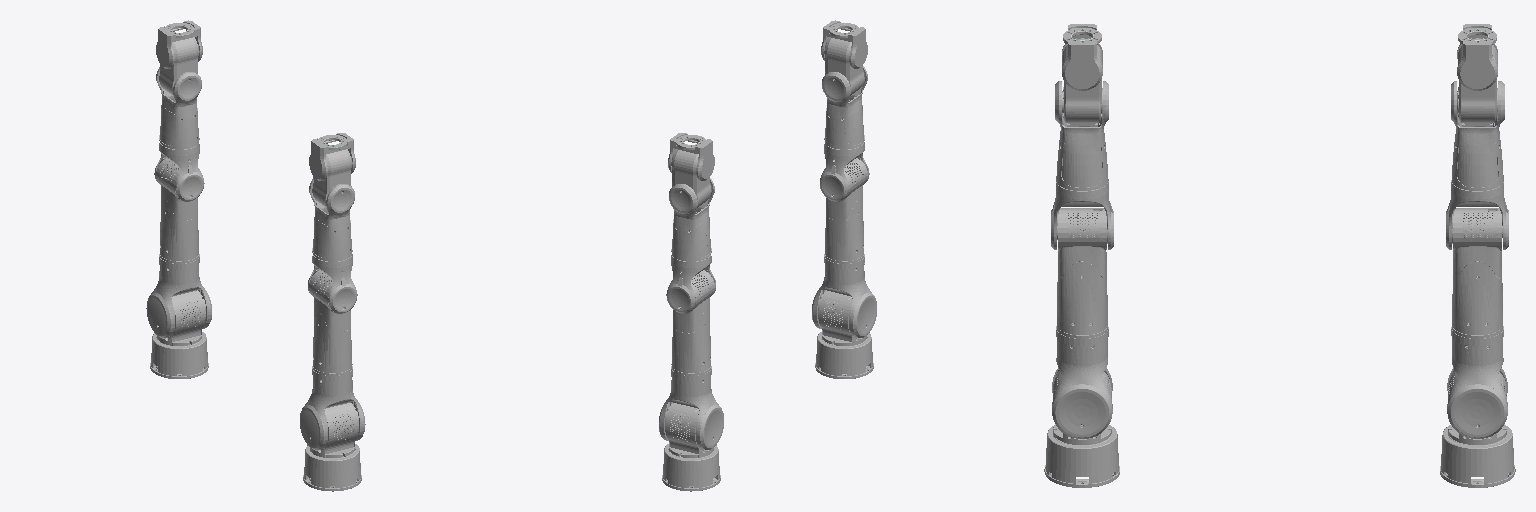
robot.urdf — bimanual_A7_V2:
<?xml version='1.0' encoding='utf-8'?>
<robot name="bimanual_A7_V2">
  <link name="world" />
  <joint name="world_to_right_base" type="fixed">
    <parent link="world" />
    <child link="right_base_link" />
    <origin xyz="0 -0.3 0" rpy="0 0 0" />
  </joint>
  <link name="right_base_link">
    <inertial>
      <origin xyz="2.9476E-06 0.00059109 0.035945" rpy="0 0 0" />
      <mass value="1.3934" />
      <inertia ixx="0.0010366" ixy="-4.6571E-06" ixz="-1.0004E-09" iyy="0.00092144" iyz="-1.646E-06" izz="0.0015392" />
    </inertial>
    <visual>
      <origin xyz="0 0 0" rpy="0 0 0" />
      <geometry>
        <mesh filename="meshes/base_link.STL" />
      </geometry>
      <material name="">
        <color rgba="0.75294 0.75294 0.75294 1" />
      </material>
    </visual>
    <collision>
      <origin xyz="0 0 0" rpy="0 0 0" />
      <geometry>
        <mesh filename="meshes/base_link.STL" />
      </geometry>
    </collision>
  </link>
  <link name="right_link1">
    <inertial>
      <origin xyz="0.0026942 -0.00010595 0.053498" rpy="0 0 0" />
      <mass value="1.3809" />
      <inertia ixx="0.0011393" ixy="9.944E-09" ixz="-2.2259E-06" iyy="0.00068756" iyz="-1.0591E-06" izz="0.00065344" />
    </inertial>
    <visual>
      <origin xyz="0 0 0" rpy="0 0 0" />
      <geometry>
        <mesh filename="meshes/A1_Link.STL" />
      </geometry>
      <material name="">
        <color rgba="0.75294 0.75294 0.75294 1" />
      </material>
    </visual>
    <collision>
      <origin xyz="0 0 0" rpy="0 0 0" />
      <geometry>
        <mesh filename="meshes/A1_Link.STL" />
      </geometry>
    </collision>
  </link>
  <joint name="right_joint1" type="revolute">
    <origin xyz="0 0 0.0645" rpy="0 0 0" />
    <parent link="right_base_link" />
    <child link="right_link1" />
    <axis xyz="0 0 1" />
    <limit lower="-2.91" upper="2.91" effort="80" velocity="10.47" />
  </joint>
  <link name="right_link2">
    <inertial>
      <origin xyz="0.0016184 -8.1895E-06 0.079574" rpy="0 0 0" />
      <mass value="1.1421" />
      <inertia ixx="0.00099926" ixy="-4.3839E-06" ixz="1.3411E-06" iyy="0.0009296" iyz="2.7915E-07" izz="0.00049087" />
    </inertial>
    <visual>
      <origin xyz="0 0 0" rpy="0 0 0" />
      <geometry>
        <mesh filename="meshes/A2_Link.STL" />
      </geometry>
      <material name="">
        <color rgba="0.75294 0.75294 0.75294 1" />
      </material>
    </visual>
    <collision>
      <origin xyz="0 0 0" rpy="0 0 0" />
      <geometry>
        <mesh filename="meshes/A2_Link.STL" />
      </geometry>
    </collision>
  </link>
  <joint name="right_joint2" type="revolute">
    <origin xyz="0 0 0.058" rpy="0 0 0" />
    <parent link="right_link1" />
    <child link="right_link2" />
    <axis xyz="1 0 0" />
    <limit lower="-1.64" upper="1.64" effort="80" velocity="10.47" />
  </joint>
  <link name="right_link3">
    <inertial>
      <origin xyz="0.00018108 -0.0012493 0.12855" rpy="0 0 0" />
      <mass value="1.2798" />
      <inertia ixx="0.001581" ixy="-7.7193E-07" ixz="8.6942E-07" iyy="0.0016315" iyz="-2.4154E-06" izz="0.00034415" />
    </inertial>
    <visual>
      <origin xyz="0 0 0" rpy="0 0 0" />
      <geometry>
        <mesh filename="meshes/A3_Link.STL" />
      </geometry>
      <material name="">
        <color rgba="0.75294 0.75294 0.75294 1" />
      </material>
    </visual>
    <collision>
      <origin xyz="0 0 0" rpy="0 0 0" />
      <geometry>
        <mesh filename="meshes/A3_Link.STL" />
      </geometry>
    </collision>
  </link>
  <joint name="right_joint3" type="revolute">
    <origin xyz="-2.5027E-05 0 0.123" rpy="0 0 0" />
    <parent link="right_link2" />
    <child link="right_link3" />
    <axis xyz="0 0 1" />
    <limit lower="-2.69" upper="2.69" effort="36" velocity="9.1" />
  </joint>
  <link name="right_link4">
    <inertial>
      <origin xyz="-4.5339E-06 -0.00098093 0.084098" rpy="0 0 0" />
      <mass value="0.94109" />
      <inertia ixx="0.00050831" ixy="4.1242E-06" ixz="1.6031E-07" iyy="0.00052415" iyz="-3.4576E-07" izz="0.00033405" />
    </inertial>
    <visual>
      <origin xyz="0 0 0" rpy="0 0 0" />
      <geometry>
        <mesh filename="meshes/A4_Link.STL" />
      </geometry>
      <material name="">
        <color rgba="0.75294 0.75294 0.75294 1" />
      </material>
    </visual>
    <collision>
      <origin xyz="0 0 0" rpy="0 0 0" />
      <geometry>
        <mesh filename="meshes/A4_Link.STL" />
      </geometry>
    </collision>
  </link>
  <joint name="right_joint4" type="revolute">
    <origin xyz="2.5124E-05 0 0.1621" rpy="0 0 0" />
    <parent link="right_link3" />
    <child link="right_link4" />
    <axis xyz="0 1 0" />
    <limit lower="-2.05" upper="2.05" effort="36" velocity="9.1" />
  </joint>
  <link name="right_link5">
    <inertial>
      <origin xyz="-7.5417E-05 -0.0018019 0.037052" rpy="0 0 0" />
      <mass value="0.30345" />
      <inertia ixx="0.00035395" ixy="-8.4489E-07" ixz="1.0439E-06" iyy="0.00038269" iyz="1.7802E-06" izz="0.00010171" />
    </inertial>
    <visual>
      <origin xyz="0 0 0" rpy="0 0 0" />
      <geometry>
        <mesh filename="meshes/A5_Link.STL" />
      </geometry>
      <material name="">
        <color rgba="0.75294 0.75294 0.75294 1" />
      </material>
    </visual>
    <collision>
      <origin xyz="0 0 0" rpy="0 0 0" />
      <geometry>
        <mesh filename="meshes/A5_Link.STL" />
      </geometry>
    </collision>
  </link>
  <joint name="right_joint5" type="revolute">
    <origin xyz="0 0 0.124" rpy="0 0 0" />
    <parent link="right_link4" />
    <child link="right_link5" />
    <axis xyz="0 0 1" />
    <limit lower="-2.69" upper="2.69" effort="36" velocity="9.1" />
  </joint>
  <link name="right_link6">
    <inertial>
      <origin xyz="0.0042338 0.0043863 0.032482" rpy="0 0 0" />
      <mass value="0.34433" />
      <inertia ixx="0.0001944" ixy="-1.3389E-06" ixz="-9.4704E-06" iyy="0.00023388" iyz="2.8728E-07" izz="0.00010146" />
    </inertial>
    <visual>
      <origin xyz="0 0 0" rpy="0 0 0" />
      <geometry>
        <mesh filename="meshes/A6_Link.STL" />
      </geometry>
      <material name="">
        <color rgba="0.75294 0.75294 0.75294 1" />
      </material>
    </visual>
    <collision>
      <origin xyz="0 0 0" rpy="0 0 0" />
      <geometry>
        <mesh filename="meshes/A6_Link.STL" />
      </geometry>
    </collision>
  </link>
  <joint name="right_joint6" type="revolute">
    <origin xyz="0 0 0.0881" rpy="0 0 0" />
    <parent link="right_link5" />
    <child link="right_link6" />
    <axis xyz="0 1 0" />
    <limit lower="-1.59" upper="1.59" effort="18" velocity="7.33" />
  </joint>
  <link name="right_link7">
    <inertial>
      <origin xyz="-0.0033322 -1.0729E-06 0.020243" rpy="0 0 0" />
      <mass value="0.14331" />
      <inertia ixx="6.9817E-05" ixy="-2.7113E-07" ixz="3.1827E-08" iyy="5.4868E-05" iyz="-6.307E-13" izz="4.4021E-05" />
    </inertial>
    <visual>
      <origin xyz="0 0 0" rpy="0 0 0" />
      <geometry>
        <mesh filename="meshes/A7_Link.STL" />
      </geometry>
      <material name="">
        <color rgba="0.75294 0.75294 0.75294 1" />
      </material>
    </visual>
    <collision>
      <origin xyz="0 0 0" rpy="0 0 0" />
      <geometry>
        <mesh filename="meshes/A7_Link.STL" />
      </geometry>
    </collision>
  </link>
  <joint name="right_joint7" type="revolute">
    <origin xyz="0 0 0.0655" rpy="0 0 0" />
    <parent link="right_link6" />
    <child link="right_link7" />
    <axis xyz="1 0 0" />
    <limit lower="-1.59" upper="1.59" effort="18" velocity="7.33" />
  </joint>
  <link name="right_link8">
    <inertial>
      <origin xyz="1.0381E-10 5.2909E-11 -0.0005" rpy="0 0 0" />
      <mass value="6.0515E-05" />
      <inertia ixx="8.496E-09" ixy="1.8809E-22" ixz="-1.7618E-15" iyy="8.496E-09" iyz="-9.0596E-16" izz="1.6982E-08" />
    </inertial>
    <visual>
      <origin xyz="0 0 0" rpy="0 0 0" />
      <geometry>
        <mesh filename="meshes/A8_Link.STL" />
      </geometry>
      <material name="">
        <color rgba="0.78039 0.97255 0.95686 1" />
      </material>
    </visual>
    <collision>
      <origin xyz="0 0 0" rpy="0 0 0" />
      <geometry>
        <mesh filename="meshes/A8_Link.STL" />
      </geometry>
    </collision>
  </link>
  <joint name="right_joint8" type="fixed">
    <origin xyz="0 0 0.0455" rpy="0 0 0" />
    <parent link="right_link7" />
    <child link="right_link8" />
    <axis xyz="0 0 0" />
  </joint>
  <joint name="world_to_left_base" type="fixed">
    <parent link="world" />
    <child link="left_base_link" />
    <origin xyz="0 0.3 0" rpy="0 0 0" />
  </joint>
  <link name="left_base_link">
    <inertial>
      <origin xyz="2.9476E-06 0.00059109 0.035945" rpy="0 0 0" />
      <mass value="1.3934" />
      <inertia ixx="0.0010366" ixy="-4.6571E-06" ixz="-1.0004E-09" iyy="0.00092144" iyz="-1.646E-06" izz="0.0015392" />
    </inertial>
    <visual>
      <origin xyz="0 0 0" rpy="0 0 0" />
      <geometry>
        <mesh filename="meshes/base_link.STL" />
      </geometry>
      <material name="">
        <color rgba="0.75294 0.75294 0.75294 1" />
      </material>
    </visual>
    <collision>
      <origin xyz="0 0 0" rpy="0 0 0" />
      <geometry>
        <mesh filename="meshes/base_link.STL" />
      </geometry>
    </collision>
  </link>
  <link name="left_link1">
    <inertial>
      <origin xyz="0.0026942 -0.00010595 0.053498" rpy="0 0 0" />
      <mass value="1.3809" />
      <inertia ixx="0.0011393" ixy="9.944E-09" ixz="-2.2259E-06" iyy="0.00068756" iyz="-1.0591E-06" izz="0.00065344" />
    </inertial>
    <visual>
      <origin xyz="0 0 0" rpy="0 0 0" />
      <geometry>
        <mesh filename="meshes/A1_Link.STL" />
      </geometry>
      <material name="">
        <color rgba="0.75294 0.75294 0.75294 1" />
      </material>
    </visual>
    <collision>
      <origin xyz="0 0 0" rpy="0 0 0" />
      <geometry>
        <mesh filename="meshes/A1_Link.STL" />
      </geometry>
    </collision>
  </link>
  <joint name="left_joint1" type="revolute">
    <origin xyz="0 0 0.0645" rpy="0 0 0" />
    <parent link="left_base_link" />
    <child link="left_link1" />
    <axis xyz="0 0 1" />
    <limit lower="-2.91" upper="2.91" effort="80" velocity="10.47" />
  </joint>
  <link name="left_link2">
    <inertial>
      <origin xyz="0.0016184 -8.1895E-06 0.079574" rpy="0 0 0" />
      <mass value="1.1421" />
      <inertia ixx="0.00099926" ixy="-4.3839E-06" ixz="1.3411E-06" iyy="0.0009296" iyz="2.7915E-07" izz="0.00049087" />
    </inertial>
    <visual>
      <origin xyz="0 0 0" rpy="0 0 0" />
      <geometry>
        <mesh filename="meshes/A2_Link.STL" />
      </geometry>
      <material name="">
        <color rgba="0.75294 0.75294 0.75294 1" />
      </material>
    </visual>
    <collision>
      <origin xyz="0 0 0" rpy="0 0 0" />
      <geometry>
        <mesh filename="meshes/A2_Link.STL" />
      </geometry>
    </collision>
  </link>
  <joint name="left_joint2" type="revolute">
    <origin xyz="0 0 0.058" rpy="0 0 0" />
    <parent link="left_link1" />
    <child link="left_link2" />
    <axis xyz="1 0 0" />
    <limit lower="-1.64" upper="1.64" effort="80" velocity="10.47" />
  </joint>
  <link name="left_link3">
    <inertial>
      <origin xyz="0.00018108 -0.0012493 0.12855" rpy="0 0 0" />
      <mass value="1.2798" />
      <inertia ixx="0.001581" ixy="-7.7193E-07" ixz="8.6942E-07" iyy="0.0016315" iyz="-2.4154E-06" izz="0.00034415" />
    </inertial>
    <visual>
      <origin xyz="0 0 0" rpy="0 0 0" />
      <geometry>
        <mesh filename="meshes/A3_Link.STL" />
      </geometry>
      <material name="">
        <color rgba="0.75294 0.75294 0.75294 1" />
      </material>
    </visual>
    <collision>
      <origin xyz="0 0 0" rpy="0 0 0" />
      <geometry>
        <mesh filename="meshes/A3_Link.STL" />
      </geometry>
    </collision>
  </link>
  <joint name="left_joint3" type="revolute">
    <origin xyz="-2.5027E-05 0 0.123" rpy="0 0 0" />
    <parent link="left_link2" />
    <child link="left_link3" />
    <axis xyz="0 0 1" />
    <limit lower="-2.69" upper="2.69" effort="36" velocity="9.1" />
  </joint>
  <link name="left_link4">
    <inertial>
      <origin xyz="-4.5339E-06 -0.00098093 0.084098" rpy="0 0 0" />
      <mass value="0.94109" />
      <inertia ixx="0.00050831" ixy="4.1242E-06" ixz="1.6031E-07" iyy="0.00052415" iyz="-3.4576E-07" izz="0.00033405" />
    </inertial>
    <visual>
      <origin xyz="0 0 0" rpy="0 0 0" />
      <geometry>
        <mesh filename="meshes/A4_Link.STL" />
      </geometry>
      <material name="">
        <color rgba="0.75294 0.75294 0.75294 1" />
      </material>
    </visual>
    <collision>
      <origin xyz="0 0 0" rpy="0 0 0" />
      <geometry>
        <mesh filename="meshes/A4_Link.STL" />
      </geometry>
    </collision>
  </link>
  <joint name="left_joint4" type="revolute">
    <origin xyz="2.5124E-05 0 0.1621" rpy="0 0 0" />
    <parent link="left_link3" />
    <child link="left_link4" />
    <axis xyz="0 1 0" />
    <limit lower="-2.05" upper="2.05" effort="36" velocity="9.1" />
  </joint>
  <link name="left_link5">
    <inertial>
      <origin xyz="-7.5417E-05 -0.0018019 0.037052" rpy="0 0 0" />
      <mass value="0.30345" />
      <inertia ixx="0.00035395" ixy="-8.4489E-07" ixz="1.0439E-06" iyy="0.00038269" iyz="1.7802E-06" izz="0.00010171" />
    </inertial>
    <visual>
      <origin xyz="0 0 0" rpy="0 0 0" />
      <geometry>
        <mesh filename="meshes/A5_Link.STL" />
      </geometry>
      <material name="">
        <color rgba="0.75294 0.75294 0.75294 1" />
      </material>
    </visual>
    <collision>
      <origin xyz="0 0 0" rpy="0 0 0" />
      <geometry>
        <mesh filename="meshes/A5_Link.STL" />
      </geometry>
    </collision>
  </link>
  <joint name="left_joint5" type="revolute">
    <origin xyz="0 0 0.124" rpy="0 0 0" />
    <parent link="left_link4" />
    <child link="left_link5" />
    <axis xyz="0 0 1" />
    <limit lower="-2.69" upper="2.69" effort="36" velocity="9.1" />
  </joint>
  <link name="left_link6">
    <inertial>
      <origin xyz="0.0042338 0.0043863 0.032482" rpy="0 0 0" />
      <mass value="0.34433" />
      <inertia ixx="0.0001944" ixy="-1.3389E-06" ixz="-9.4704E-06" iyy="0.00023388" iyz="2.8728E-07" izz="0.00010146" />
    </inertial>
    <visual>
      <origin xyz="0 0 0" rpy="0 0 0" />
      <geometry>
        <mesh filename="meshes/A6_Link.STL" />
      </geometry>
      <material name="">
        <color rgba="0.75294 0.75294 0.75294 1" />
      </material>
    </visual>
    <collision>
      <origin xyz="0 0 0" rpy="0 0 0" />
      <geometry>
        <mesh filename="meshes/A6_Link.STL" />
      </geometry>
    </collision>
  </link>
  <joint name="left_joint6" type="revolute">
    <origin xyz="0 0 0.0881" rpy="0 0 0" />
    <parent link="left_link5" />
    <child link="left_link6" />
    <axis xyz="0 1 0" />
    <limit lower="-1.59" upper="1.59" effort="18" velocity="7.33" />
  </joint>
  <link name="left_link7">
    <inertial>
      <origin xyz="-0.0033322 -1.0729E-06 0.020243" rpy="0 0 0" />
      <mass value="0.14331" />
      <inertia ixx="6.9817E-05" ixy="-2.7113E-07" ixz="3.1827E-08" iyy="5.4868E-05" iyz="-6.307E-13" izz="4.4021E-05" />
    </inertial>
    <visual>
      <origin xyz="0 0 0" rpy="0 0 0" />
      <geometry>
        <mesh filename="meshes/A7_Link.STL" />
      </geometry>
      <material name="">
        <color rgba="0.75294 0.75294 0.75294 1" />
      </material>
    </visual>
    <collision>
      <origin xyz="0 0 0" rpy="0 0 0" />
      <geometry>
        <mesh filename="meshes/A7_Link.STL" />
      </geometry>
    </collision>
  </link>
  <joint name="left_joint7" type="revolute">
    <origin xyz="0 0 0.0655" rpy="0 0 0" />
    <parent link="left_link6" />
    <child link="left_link7" />
    <axis xyz="1 0 0" />
    <limit lower="-1.59" upper="1.59" effort="18" velocity="7.33" />
  </joint>
  <link name="left_link8">
    <inertial>
      <origin xyz="1.0381E-10 5.2909E-11 -0.0005" rpy="0 0 0" />
      <mass value="6.0515E-05" />
      <inertia ixx="8.496E-09" ixy="1.8809E-22" ixz="-1.7618E-15" iyy="8.496E-09" iyz="-9.0596E-16" izz="1.6982E-08" />
    </inertial>
    <visual>
      <origin xyz="0 0 0" rpy="0 0 0" />
      <geometry>
        <mesh filename="meshes/A8_Link.STL" />
      </geometry>
      <material name="">
        <color rgba="0.78039 0.97255 0.95686 1" />
      </material>
    </visual>
    <collision>
      <origin xyz="0 0 0" rpy="0 0 0" />
      <geometry>
        <mesh filename="meshes/A8_Link.STL" />
      </geometry>
    </collision>
  </link>
  <joint name="left_joint8" type="fixed">
    <origin xyz="0 0 0.0455" rpy="0 0 0" />
    <parent link="left_link7" />
    <child link="left_link8" />
    <axis xyz="0 0 0" />
  </joint>
</robot>

--- Facts derived from the render (not from the file) ---
Views: 3 orthographic renders of the robot side by side, from view 1: azimuth 30°, elevation 25°; view 2: azimuth 150°, elevation 25°; view 3: azimuth 270°, elevation 25°.
Model bimanual_A7_V2 with 19 links and 18 joints (14 revolute, 4 fixed), rooted at world, posed all joints at 0.
Links seen in each view (by area): view 1: right_link3, left_link3, left_link2, right_link2, right_link5, left_link5, right_base_link, left_base_link, right_link1, left_link1, right_link4, left_link4 (+4 smaller); view 2: left_link3, right_link3, left_link2, right_link2, left_link5, right_link5, left_base_link, right_base_link, right_link1, left_link1, right_link4, left_link4 (+4 smaller); view 3: left_link3, right_link3, right_link2, left_link2, right_link5, left_link5, right_base_link, left_base_link, left_link7, right_link7, right_link4, left_link4 (+4 smaller).
Boxes of the visible links, box(x1,y1,x2,y2) form: right_link3: box(309, 270, 352, 372); left_link3: box(156, 158, 198, 260); left_link2: box(146, 254, 211, 337); right_link2: box(300, 366, 365, 449); right_link5: box(309, 179, 354, 261); left_link5: box(156, 67, 201, 149); right_base_link: box(303, 444, 361, 491); left_base_link: box(150, 332, 208, 378); right_link1: box(310, 403, 358, 457); left_link1: box(157, 290, 205, 345); right_link4: box(308, 254, 357, 313); left_link4: box(154, 143, 204, 201); left_link3: box(671, 270, 714, 372); right_link3: box(825, 158, 867, 260); left_link2: box(659, 366, 723, 449); right_link2: box(812, 254, 876, 337); left_link5: box(669, 178, 714, 261); right_link5: box(822, 66, 867, 149); left_base_link: box(662, 444, 720, 491); right_base_link: box(815, 332, 873, 378); right_link1: box(818, 290, 866, 345); left_link1: box(665, 403, 713, 457); right_link4: box(820, 142, 869, 201); left_link4: box(666, 255, 715, 313); left_link3: box(1452, 208, 1502, 334); right_link3: box(1057, 208, 1107, 334); right_link2: box(1052, 326, 1112, 438); left_link2: box(1447, 326, 1507, 438); right_link5: box(1055, 81, 1108, 190); left_link5: box(1451, 81, 1504, 190); right_base_link: box(1044, 425, 1119, 487); left_base_link: box(1440, 425, 1515, 487); left_link7: box(1457, 24, 1497, 90); right_link7: box(1062, 24, 1102, 90); right_link4: box(1051, 181, 1113, 249); left_link4: box(1446, 180, 1508, 249).
Size in the robot's own frame: 0.1146 by 0.715 by 0.7329 metres.
Meshes: 9 distinct files referenced, 18 mesh visuals loaded (9 binary STL).
